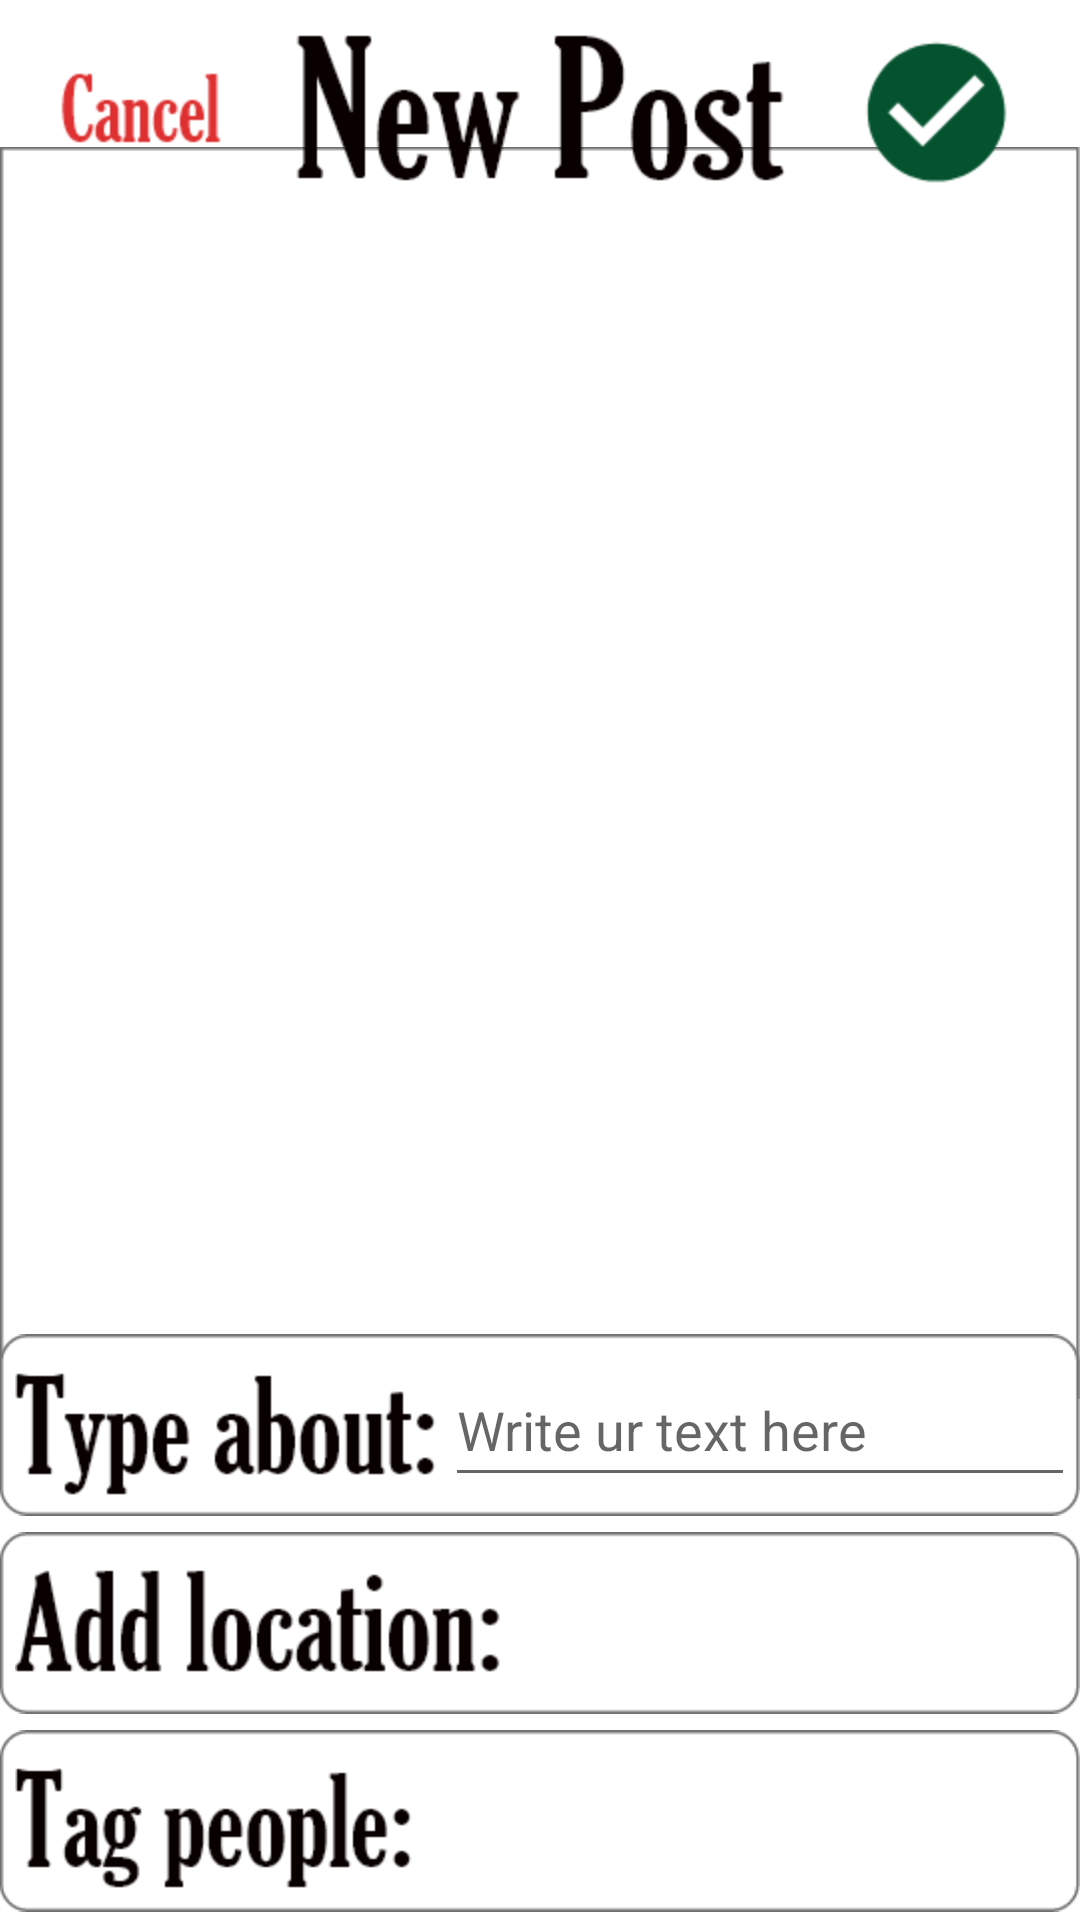

Icon bounding boxes for this 1080*1920 phone screenshot, format Rect(x1, y1, x2, y2):
check circle: Rect(854, 42, 1020, 183)
